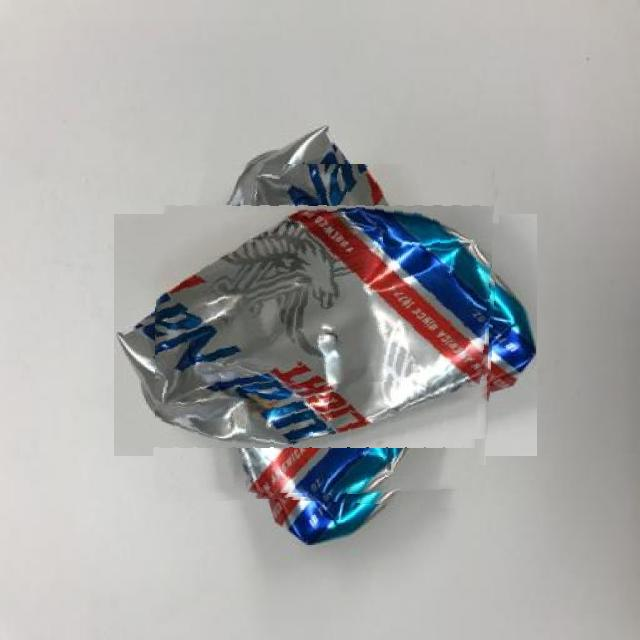recyclable: (155, 164, 496, 505)
